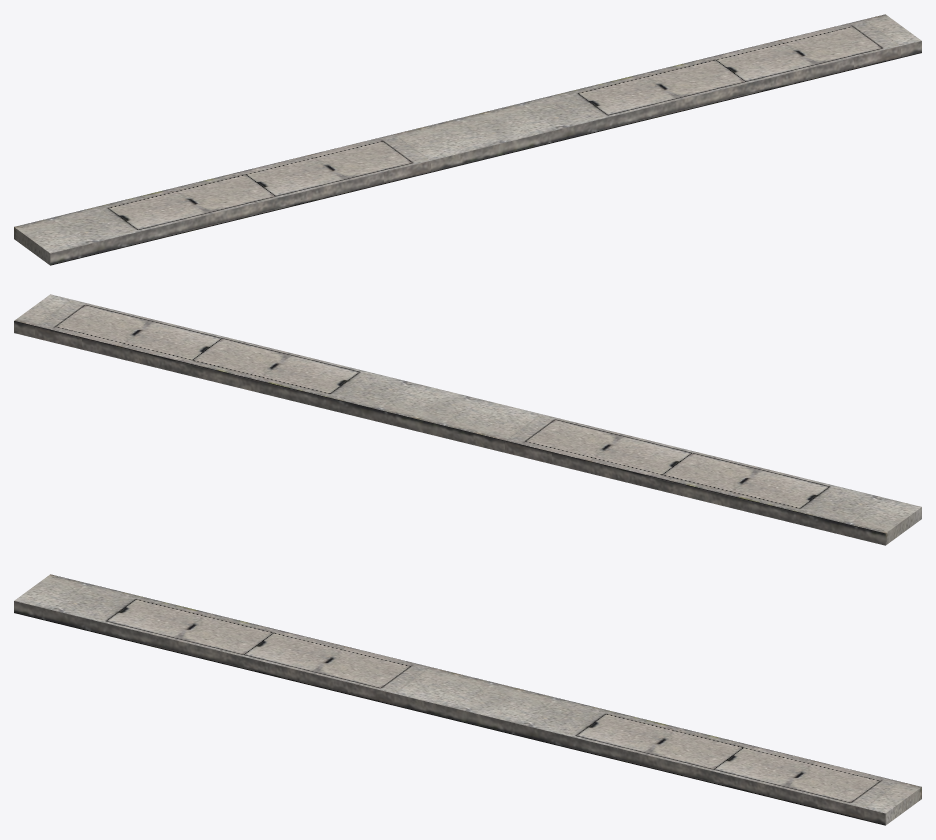
File: road_c1_gutter.fbx
The picture shows the model from 3 angles, top to bottom: view 1: azimuth 30°, elevation 25°; view 2: azimuth 150°, elevation 25°; view 3: azimuth 330°, elevation 25°; orthographic projection.
Parts seen in each view (by area): view 1: road_c1_gutter; view 2: road_c1_gutter; view 3: road_c1_gutter.
Boxes of the visible parts, left/top/right/bottom form: road_c1_gutter: left=14, top=14, right=921, bottom=265; road_c1_gutter: left=14, top=294, right=921, bottom=545; road_c1_gutter: left=14, top=574, right=921, bottom=825.
Size of the model in its own units: 0.0415 by 0.000552 by 0.003.
